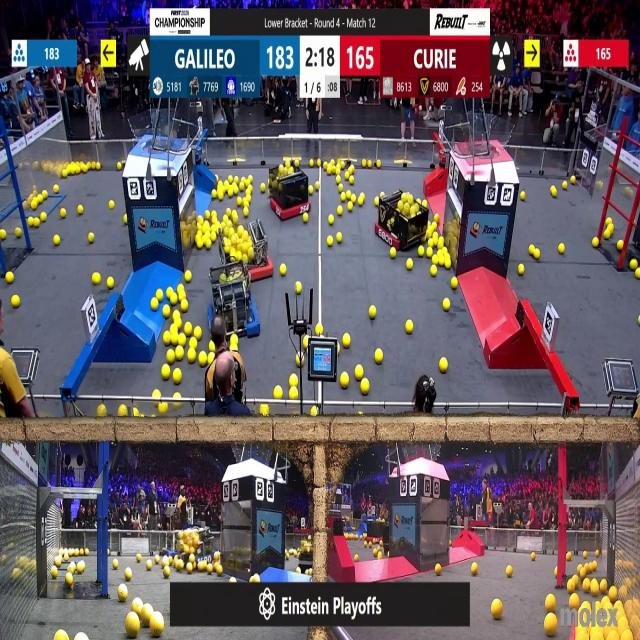ball_ground: (127, 616, 141, 638), (150, 616, 163, 638), (544, 616, 556, 637), (492, 600, 502, 619), (544, 594, 554, 612), (118, 586, 128, 602), (566, 580, 576, 594), (590, 582, 600, 596), (360, 380, 369, 394), (441, 357, 449, 372), (376, 349, 384, 364), (199, 352, 208, 365), (343, 335, 351, 349), (163, 364, 171, 378), (173, 368, 181, 382), (570, 595, 578, 609), (187, 349, 195, 363), (608, 588, 616, 602), (57, 630, 68, 640), (98, 407, 107, 419), (342, 374, 349, 389), (355, 365, 363, 378), (167, 351, 175, 364), (164, 306, 172, 319), (160, 404, 169, 415), (407, 320, 414, 334), (275, 386, 283, 398), (180, 301, 188, 313), (176, 348, 184, 360), (11, 295, 19, 307), (171, 334, 179, 346), (178, 335, 186, 347), (184, 322, 192, 334), (76, 562, 84, 574), (94, 273, 101, 286), (289, 388, 298, 398), (289, 376, 297, 387), (171, 293, 179, 304), (118, 407, 126, 418), (262, 406, 270, 417), (107, 277, 114, 289), (470, 563, 477, 575), (193, 326, 200, 338), (368, 306, 374, 320), (165, 334, 172, 346), (444, 300, 451, 312), (407, 260, 414, 272), (294, 282, 301, 294), (316, 323, 323, 335), (150, 300, 157, 312), (67, 572, 74, 584), (126, 568, 133, 580), (195, 238, 202, 250), (133, 600, 140, 612), (439, 256, 446, 268), (584, 581, 591, 593), (250, 574, 259, 583), (188, 339, 196, 349), (162, 556, 170, 566), (174, 318, 182, 328), (176, 560, 184, 570), (434, 564, 441, 575), (430, 267, 437, 278), (631, 261, 638, 272), (203, 221, 210, 232), (6, 273, 12, 285), (534, 248, 540, 260), (233, 212, 239, 224), (184, 272, 191, 282), (505, 566, 512, 576), (618, 241, 625, 251), (419, 246, 426, 256), (186, 563, 193, 573), (426, 247, 433, 257), (178, 285, 185, 295), (205, 240, 212, 250), (155, 289, 162, 299), (445, 261, 452, 271), (207, 564, 214, 574), (81, 162, 88, 172), (452, 278, 458, 289), (90, 233, 96, 244), (280, 266, 286, 277), (518, 266, 524, 277), (165, 566, 171, 577), (55, 236, 61, 247), (51, 567, 57, 578), (75, 634, 86, 640), (152, 389, 160, 397), (232, 344, 239, 353), (390, 248, 396, 258), (0, 232, 6, 242), (593, 238, 599, 248), (243, 207, 249, 217), (559, 244, 565, 254), (146, 561, 152, 571), (326, 237, 332, 247), (40, 212, 46, 222), (77, 205, 83, 215), (216, 565, 222, 575), (237, 198, 243, 208), (357, 197, 363, 207), (551, 186, 557, 196), (211, 212, 217, 222), (34, 218, 40, 228), (346, 190, 352, 200), (304, 338, 309, 350), (223, 245, 229, 255), (205, 211, 211, 221), (243, 198, 249, 208), (32, 200, 38, 210), (311, 410, 318, 418), (349, 176, 356, 184), (173, 400, 180, 408), (210, 222, 217, 230), (223, 227, 230, 235), (338, 233, 343, 244), (61, 209, 67, 218), (28, 217, 34, 226), (338, 207, 344, 216), (108, 201, 114, 210), (427, 239, 433, 248), (232, 336, 238, 345), (431, 255, 437, 264), (234, 185, 240, 194), (439, 238, 445, 247), (199, 214, 205, 223), (209, 343, 214, 353), (304, 213, 309, 223), (15, 230, 20, 240), (113, 560, 118, 570), (529, 246, 534, 256), (115, 164, 122, 171), (212, 189, 218, 197), (604, 232, 610, 240), (562, 181, 568, 189), (136, 555, 142, 563), (259, 184, 265, 192), (341, 192, 347, 200), (339, 183, 345, 191), (96, 164, 102, 172), (222, 215, 228, 223), (42, 190, 48, 198), (134, 410, 140, 418), (62, 170, 68, 178), (227, 188, 233, 196), (306, 568, 312, 576), (208, 353, 214, 361), (521, 190, 526, 199), (348, 203, 353, 212), (373, 199, 378, 208), (155, 556, 160, 565), (566, 553, 571, 562), (309, 184, 314, 193), (175, 392, 181, 399), (230, 576, 237, 582), (55, 185, 61, 192), (247, 185, 253, 192), (316, 161, 322, 168), (227, 176, 233, 183), (531, 553, 536, 561), (570, 176, 575, 184), (211, 234, 216, 242), (636, 270, 640, 280), (218, 190, 223, 198), (337, 176, 342, 184), (225, 208, 230, 216), (168, 287, 173, 295), (240, 182, 245, 190), (361, 161, 366, 169), (432, 221, 437, 229), (322, 163, 327, 171), (328, 215, 332, 224), (122, 215, 126, 224), (555, 567, 559, 576), (295, 358, 299, 367), (377, 162, 382, 169), (326, 168, 331, 175), (295, 567, 300, 574), (432, 233, 437, 240), (366, 162, 371, 169), (84, 551, 89, 558), (235, 176, 240, 183), (316, 181, 320, 189), (248, 176, 252, 184), (308, 159, 312, 167), (355, 555, 359, 562), (434, 215, 438, 222), (381, 190, 385, 197), (596, 551, 600, 558), (449, 539, 453, 546), (379, 554, 383, 560), (108, 550, 111, 557), (388, 554, 391, 560)
goal: (461, 118, 516, 158), (129, 116, 186, 152)
robot_blue: (206, 262, 260, 339), (166, 526, 216, 568)
robot_red: (222, 219, 274, 279), (376, 192, 429, 250), (266, 160, 310, 220)
